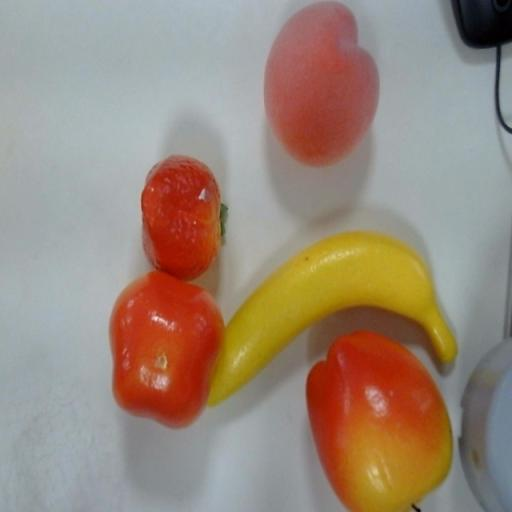Ripe: (220, 225, 468, 385), (298, 329, 468, 512), (262, 0, 382, 181), (112, 274, 217, 434), (134, 140, 233, 283)
